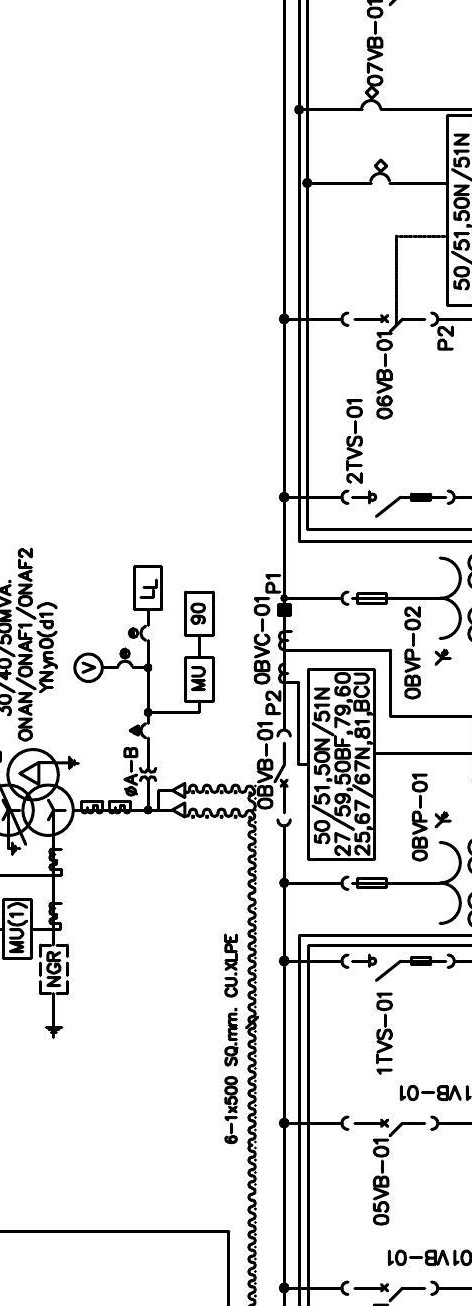22_breaker: (340, 310, 440, 334), (340, 1280, 440, 1303), (339, 1115, 439, 1138), (273, 728, 292, 828)
22_ds: (340, 953, 457, 983), (340, 489, 457, 519)
LL: (132, 564, 164, 612)
MU: (1, 897, 33, 961), (183, 655, 216, 704)
NGR_future: (38, 943, 70, 1040)
terminator_double: (156, 781, 187, 819)
v_m: (72, 651, 105, 684)
